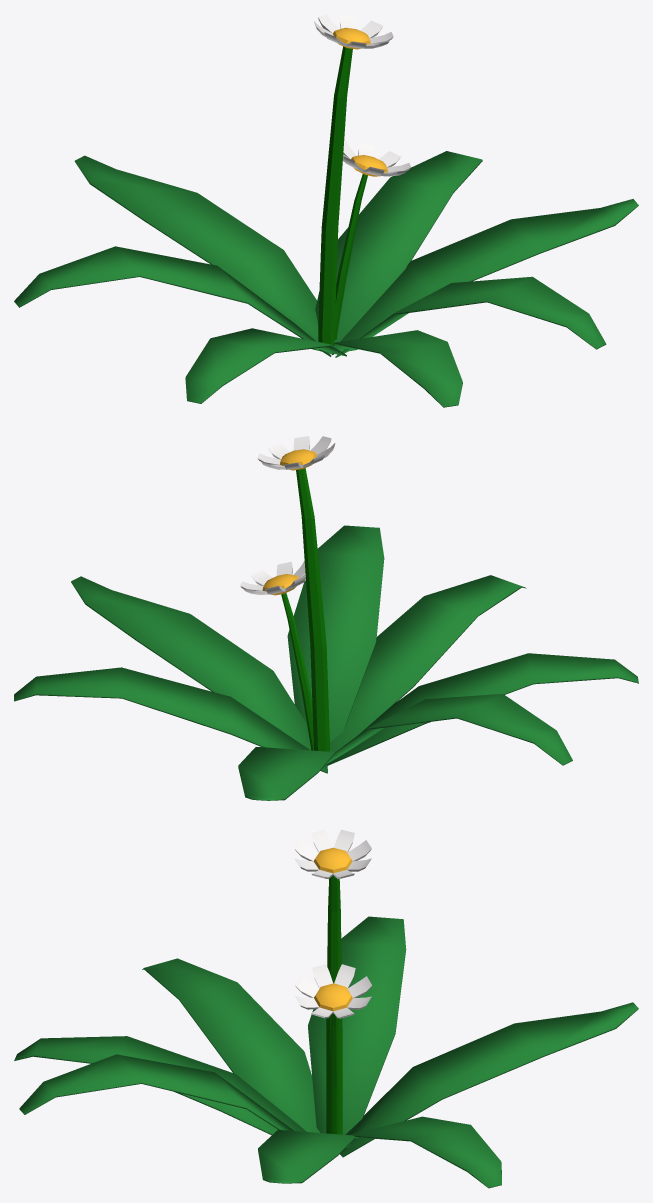
Rendered from Flower1.fbx.
3 views of the same model, one above another, from view 1: azimuth 30°, elevation 25°; view 2: azimuth 150°, elevation 25°; view 3: azimuth 270°, elevation 25° (orthographic). The views are drawn at different scales.
Visible parts, largest first — view 1: Plane.016, Cylinder.002, Sphere.011, Sphere.012, Cylinder.003; view 2: Plane.016, Cylinder.002, Sphere.011, Sphere.012, Cylinder.003; view 3: Plane.016, Sphere.012, Sphere.011, Cylinder.002, Cylinder.003.
Part boxes in pixels (x1,y1,x2,y2): Plane.016: (14, 151, 638, 407); Cylinder.002: (318, 46, 352, 345); Sphere.011: (314, 14, 393, 49); Sphere.012: (343, 141, 411, 176); Cylinder.003: (334, 174, 367, 340); Plane.016: (14, 525, 638, 800); Cylinder.002: (296, 468, 329, 751); Sphere.011: (257, 436, 335, 470); Sphere.012: (240, 561, 305, 595); Cylinder.003: (281, 593, 313, 750); Plane.016: (14, 916, 638, 1188); Sphere.012: (295, 964, 371, 1018); Sphere.011: (294, 829, 371, 879); Cylinder.002: (326, 875, 342, 1134); Cylinder.003: (330, 1013, 338, 1134).
Bounding box in the file's own units: 137 × 75.16 × 135.
Materials: 3 (1 with a texture image).
